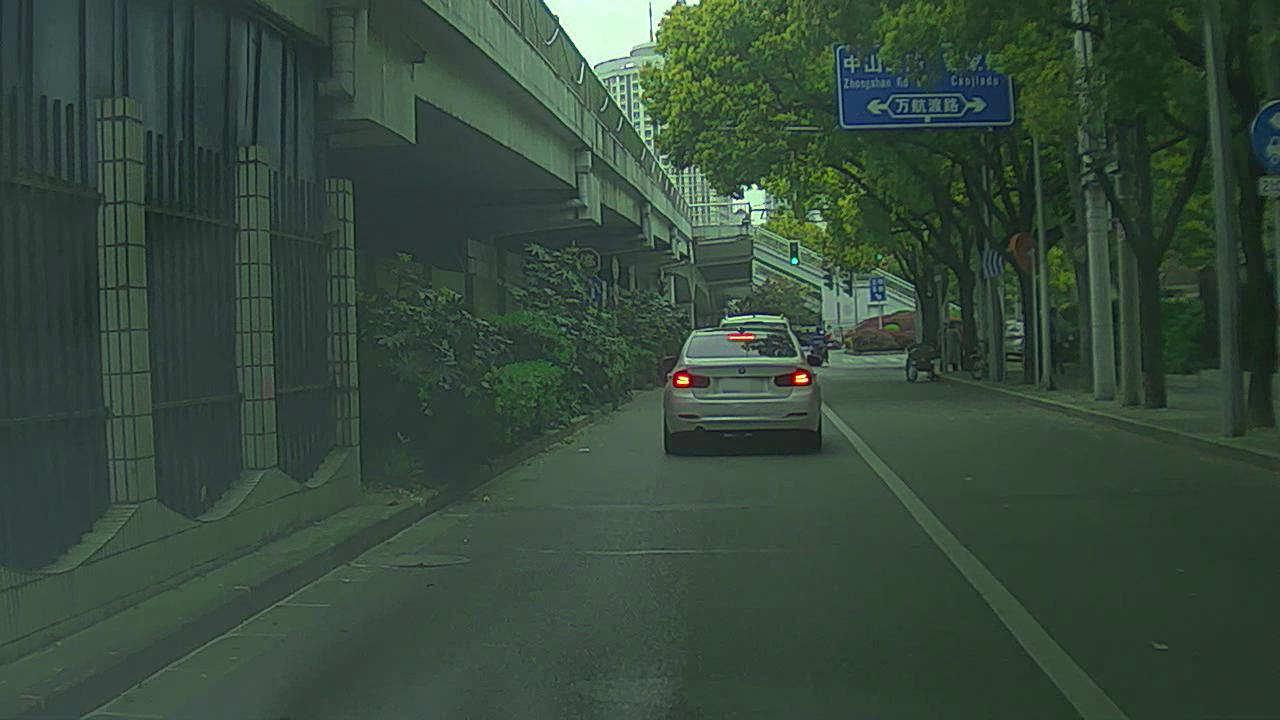traffic_light: (788, 236, 802, 267)
